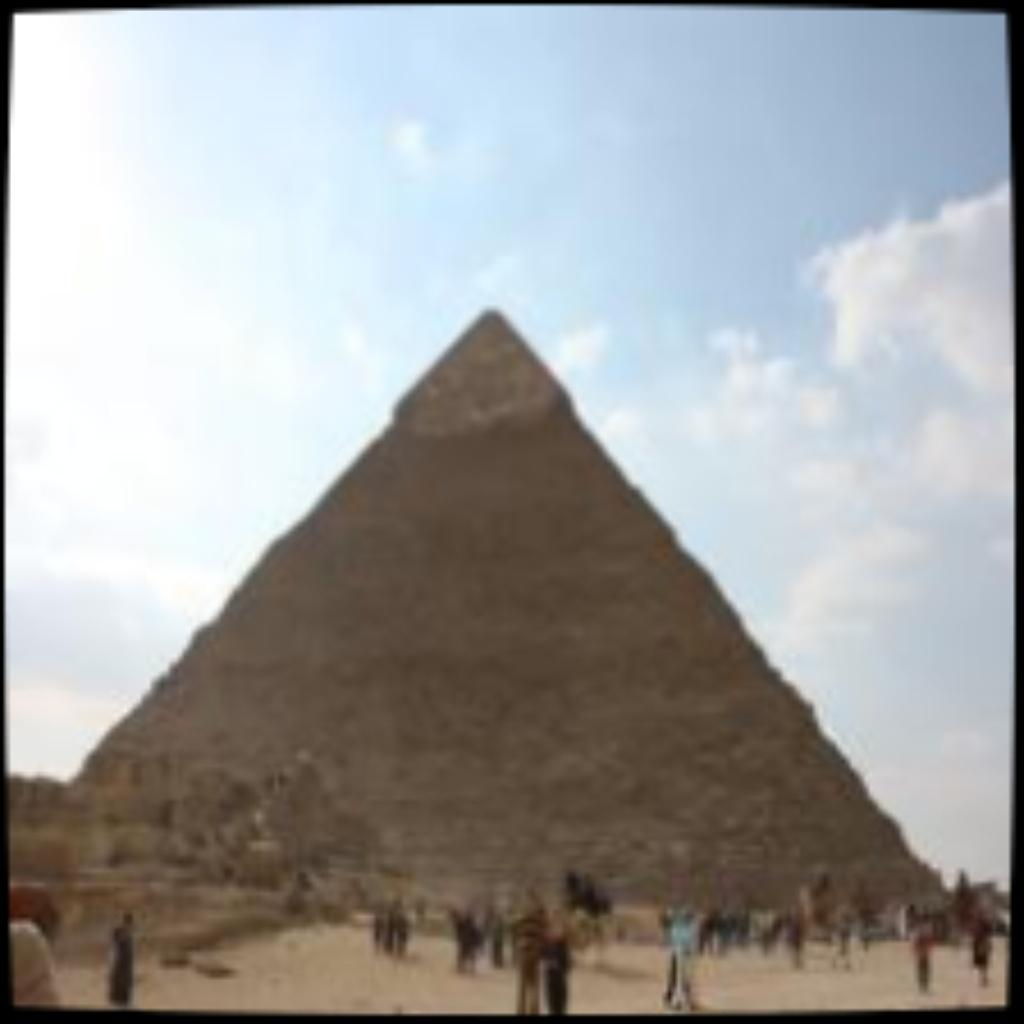Great Pyramids of Giza: (55, 293, 960, 928)
